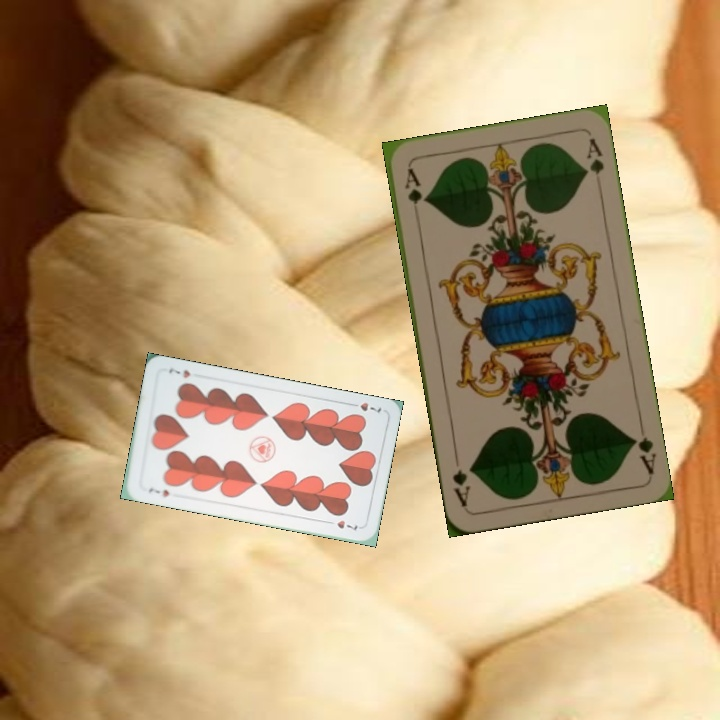GA: (628, 418, 658, 476), (400, 164, 425, 222)
H7: (345, 397, 384, 415), (144, 483, 172, 500)
